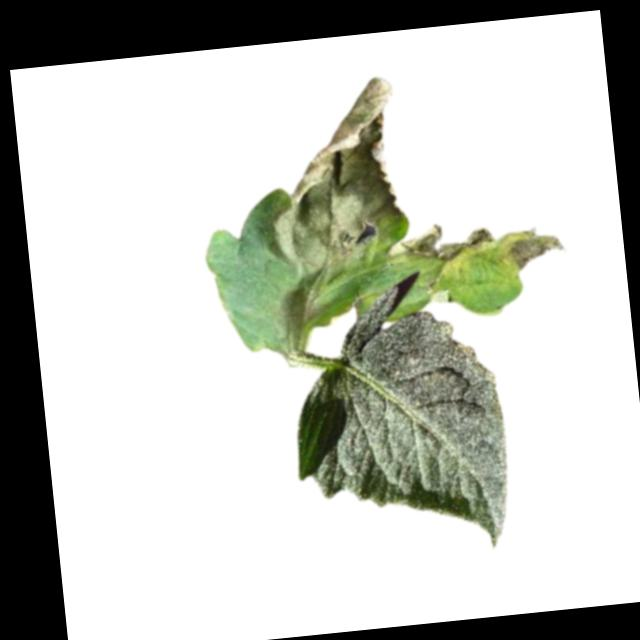Late_blight: (254, 73, 412, 282), (394, 218, 496, 275), (275, 277, 333, 350), (493, 224, 567, 279), (419, 269, 456, 307)
healthy: (278, 276, 516, 568)
